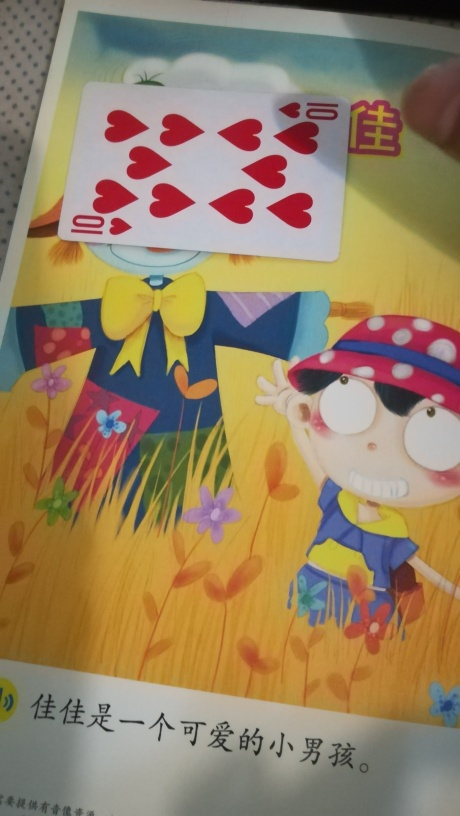hx 10: (54, 76, 348, 264)
